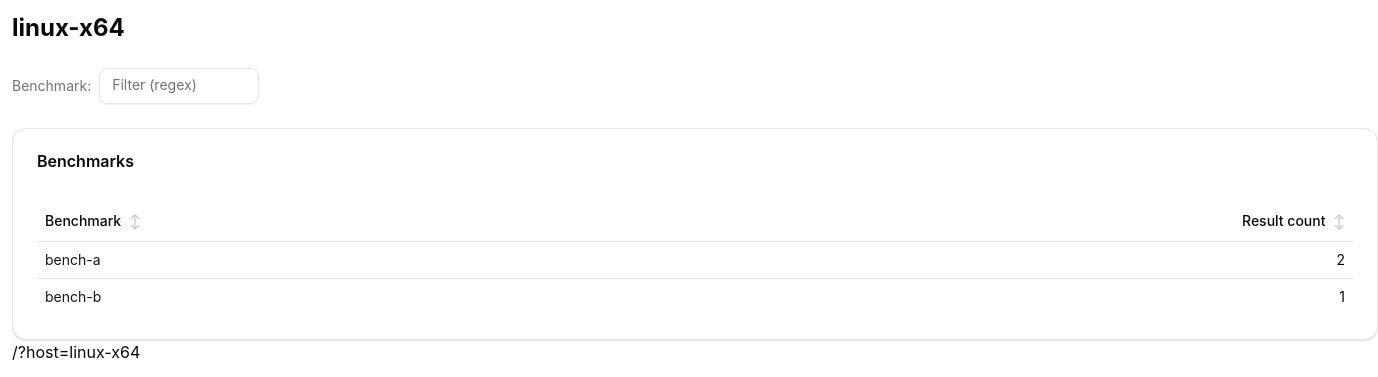
Test: Dashboard › keeps the cursor position when editing the middle of the regex filter
The width and height of the screenshot is (1378, 377).
In the field labelled "Benchmark:": (179, 86) [99, 68, 259, 104], type "2016-"
Then press Arrowleft, Backspace
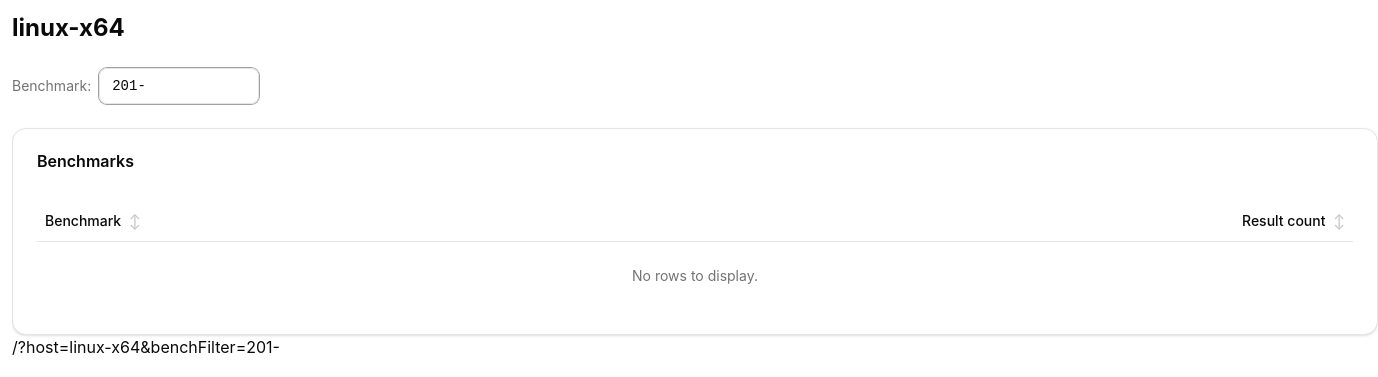
Now the field labelled "Benchmark:" holds "201-", box [99, 68, 259, 104]
Now the text with test id "location" shows "benchFilter=201-", box [12, 336, 280, 356]
